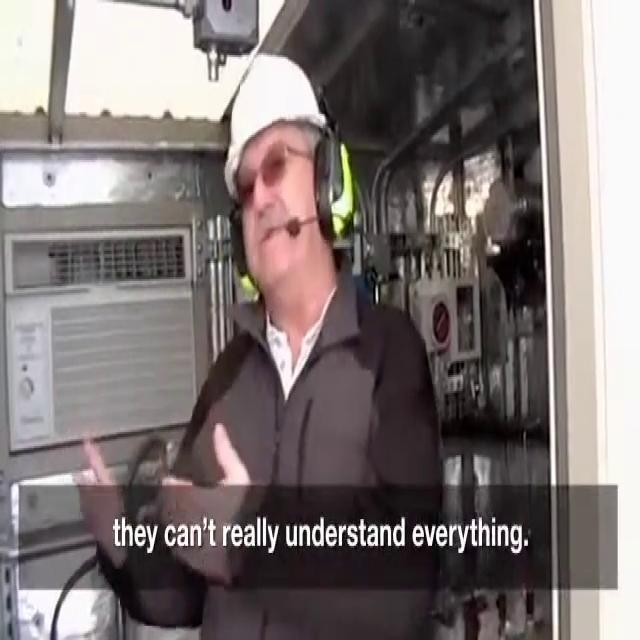earmuff: (311, 122, 358, 251)
glasses: (230, 136, 320, 210)
helmet: (221, 44, 330, 199), (242, 193, 311, 297)
